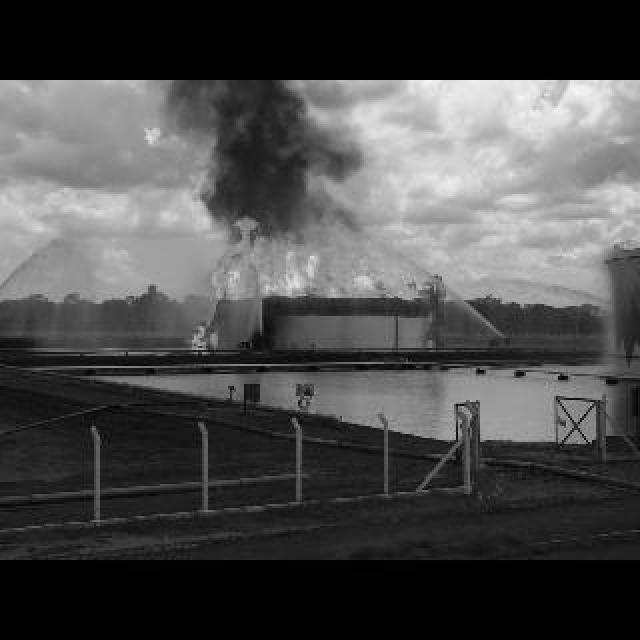fire: (218, 220, 416, 298), (192, 328, 220, 350)
smoke: (174, 86, 368, 232)
